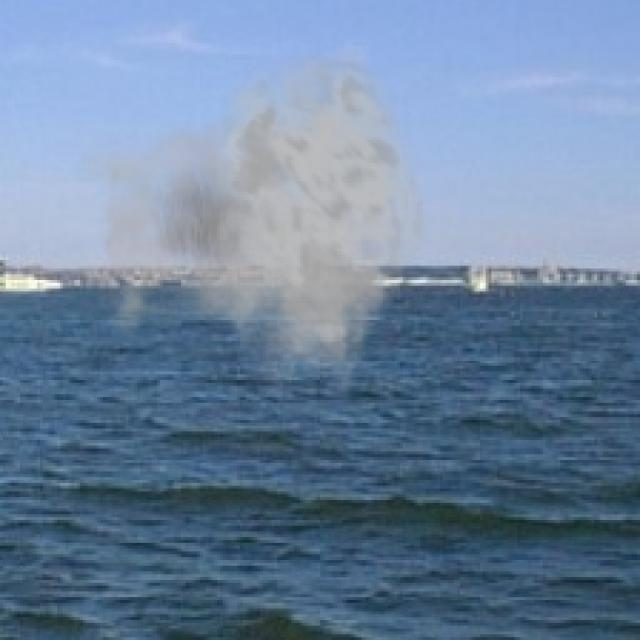Smoke: (71, 40, 426, 403)
